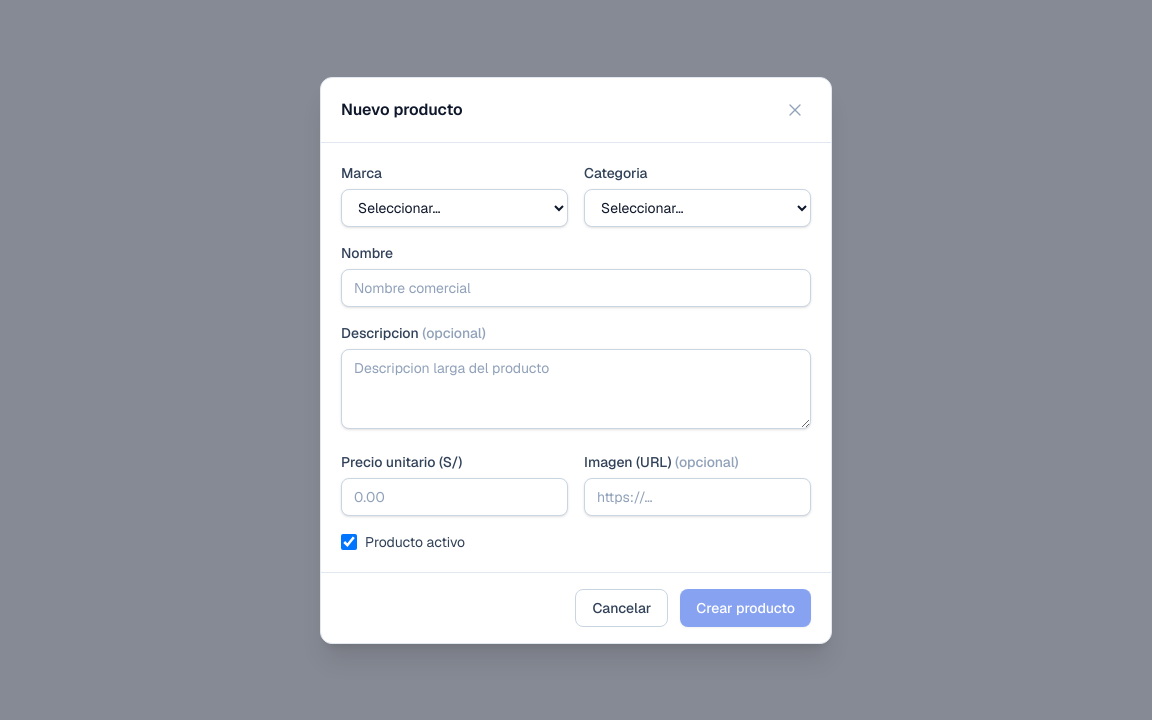
Test: ProductFormModal › shows error message when API throws
Select "Sony" in the dropdown labelled "Marca" at (454, 208), box [341,188,568,226]
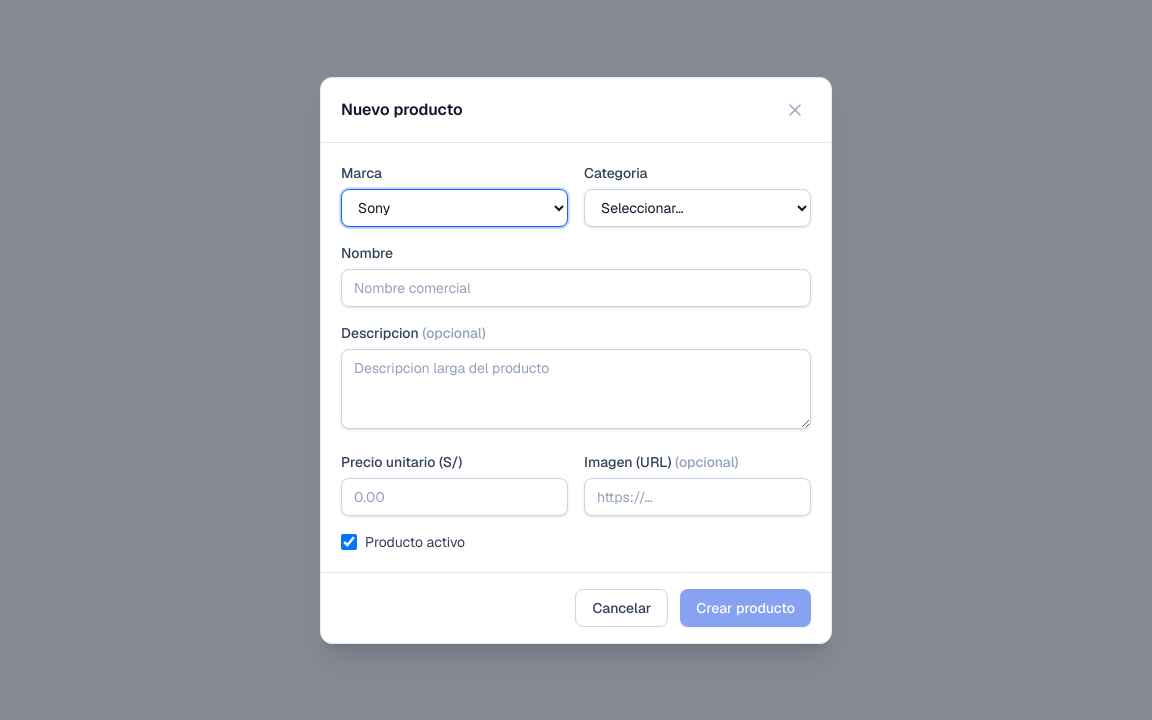
Select "Electronica" in the dropdown labelled "Categoria" at (698, 208), box [584,188,811,226]
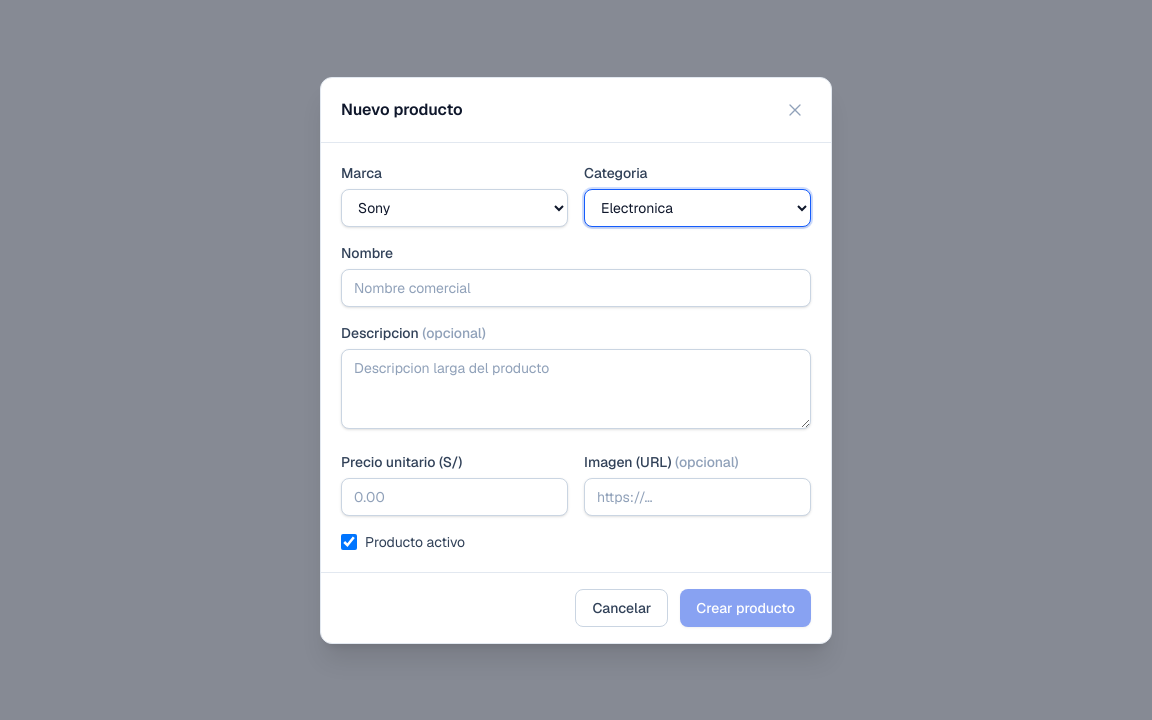
Type "Producto X" into the field labelled "Nombre" at (576, 288), box [341,268,811,306]
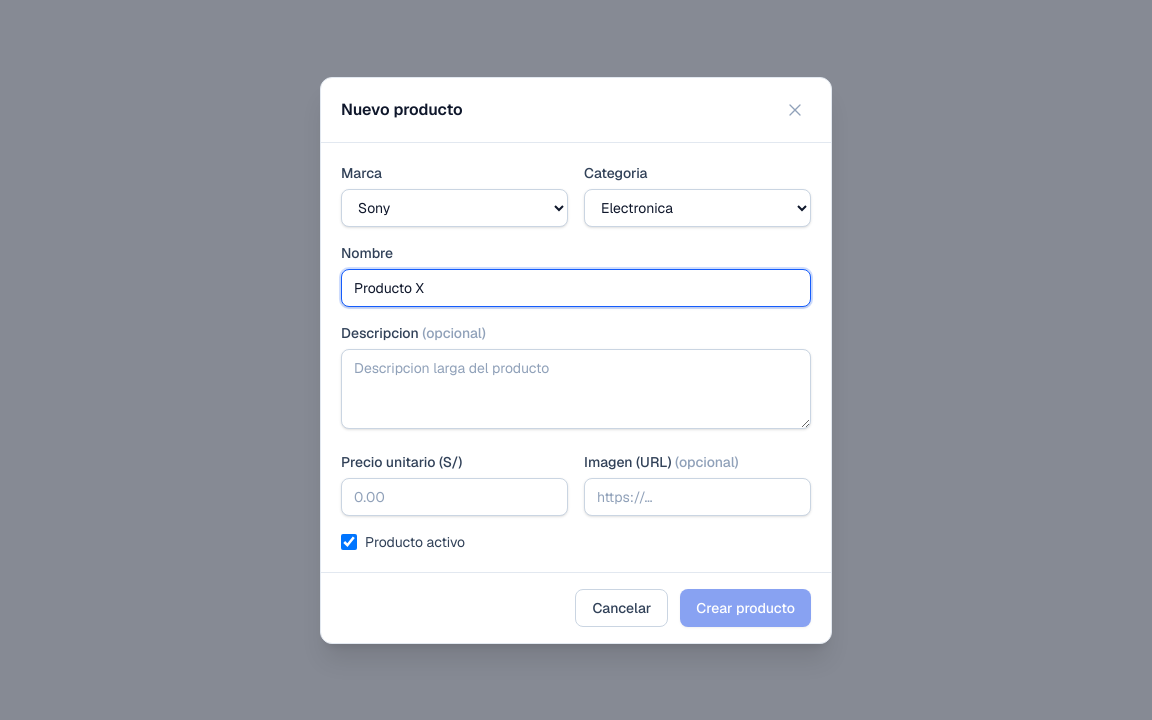
Type "10" into the number field labelled "Precio unitario (S/)" at (454, 496), box [341,478,568,516]
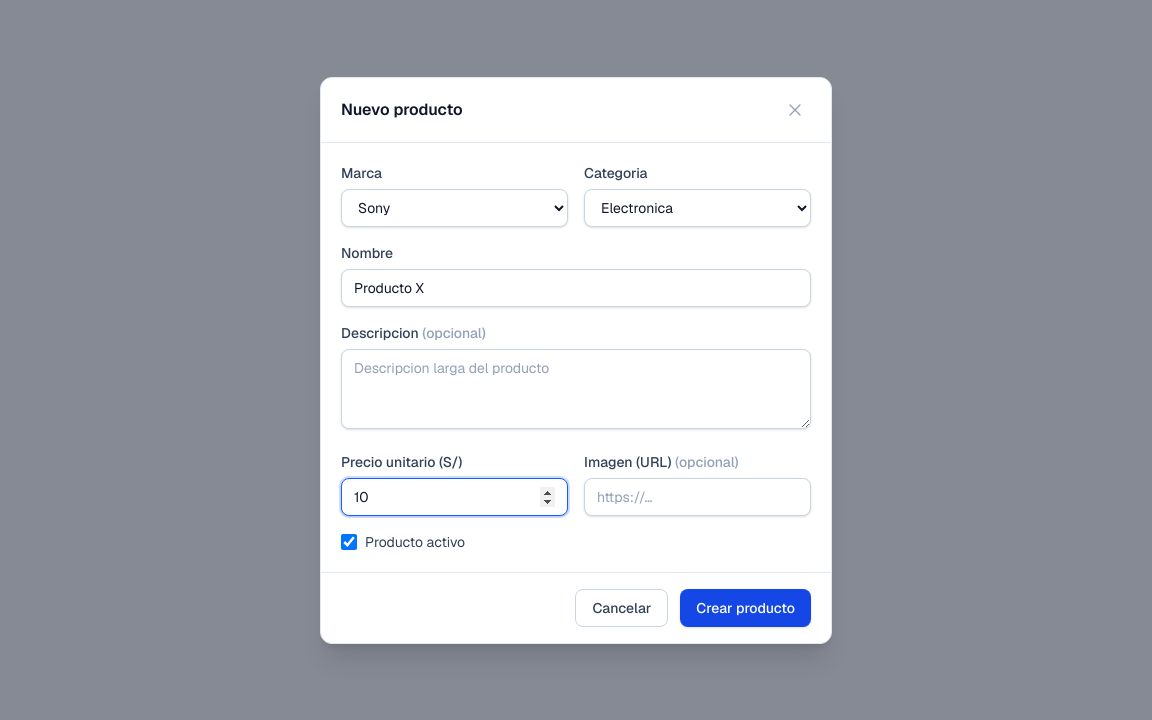
Click the button "Crear producto" at (746, 608), box [680,588,811,626]
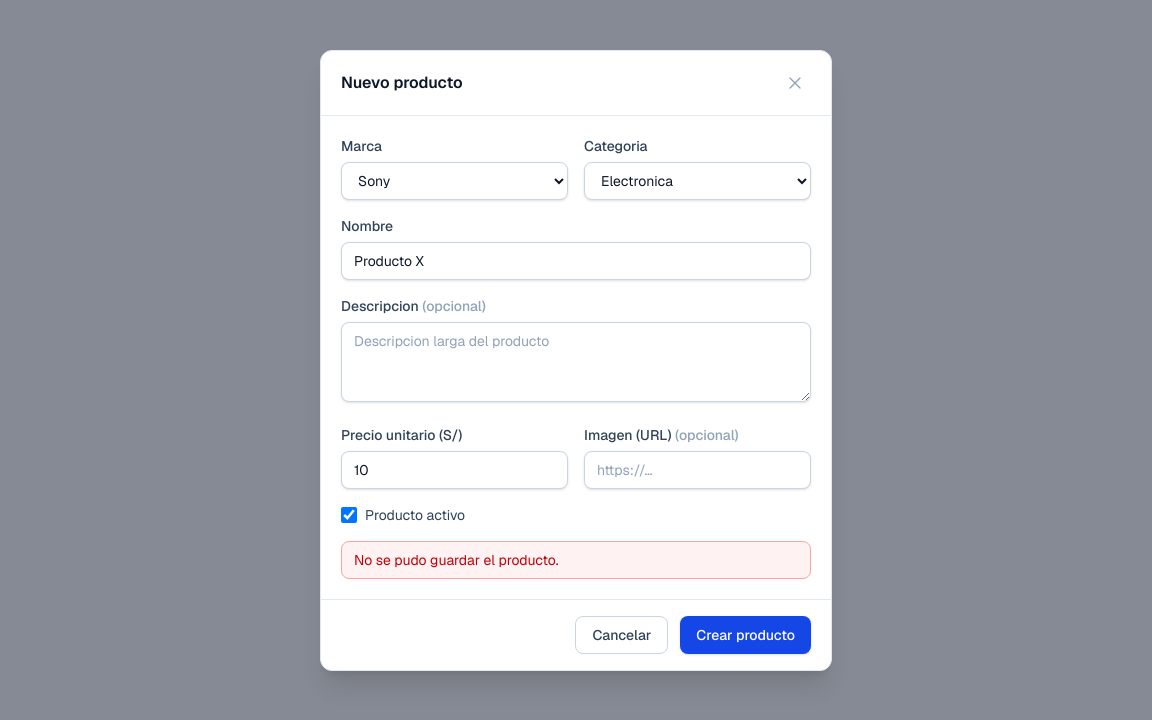
Now the text "No se pudo guardar el producto." is shown, box [341,540,811,578]
